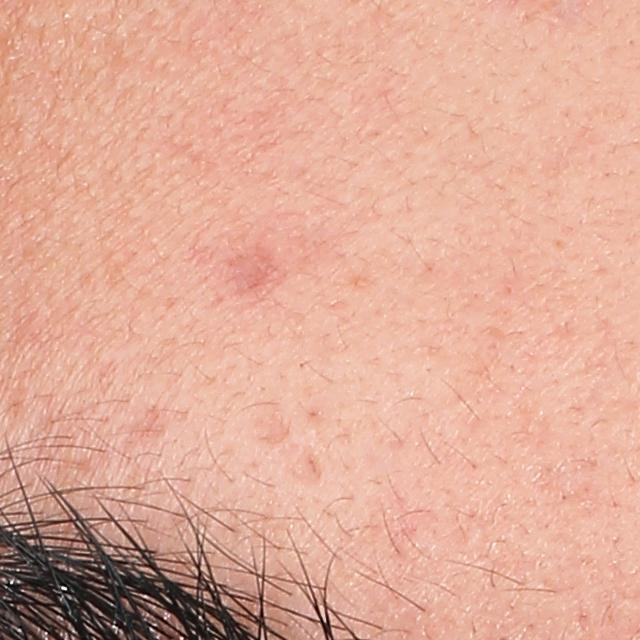atrophic_scar: (216, 209, 346, 308), (286, 441, 328, 489), (251, 414, 294, 448)
